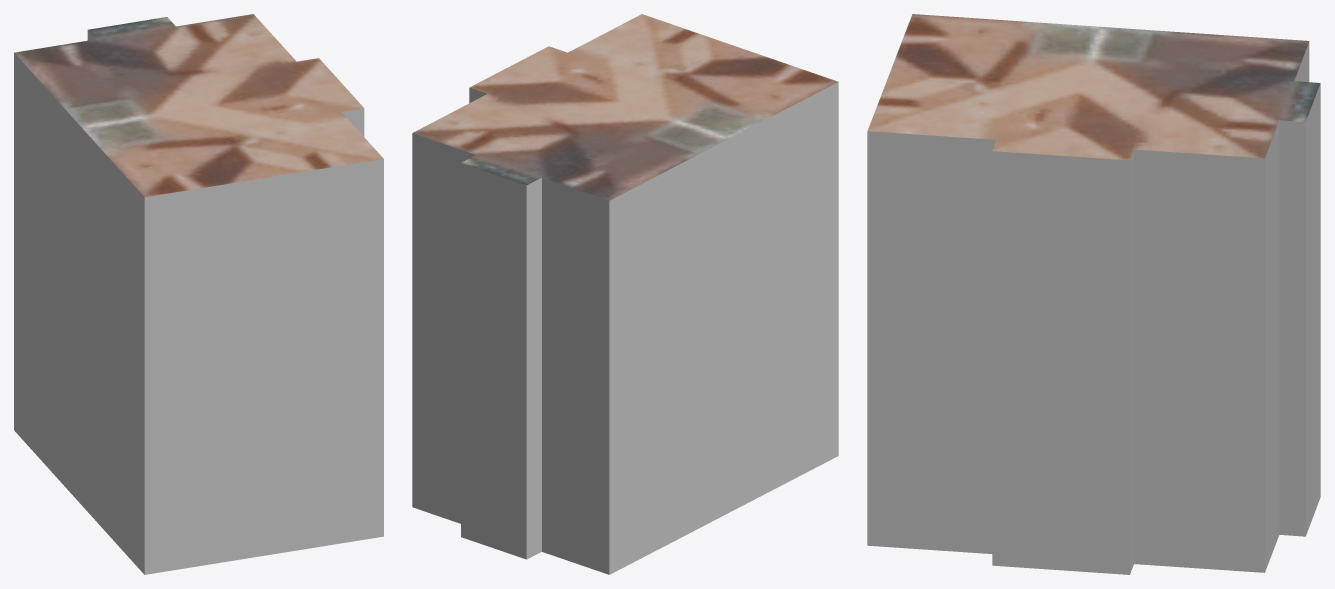
File: DEBW_0010007Txc1.gltf
The picture shows the model from 3 angles, left to right: view 1: azimuth 30°, elevation 25°; view 2: azimuth 150°, elevation 25°; view 3: azimuth 270°, elevation 25°; orthographic projection. The views are drawn at different scales.
Parts seen in each view (by area): view 1: Z_UP; view 2: Z_UP; view 3: Z_UP.
Boxes of the visible parts, box(x1,y1,x2,y2) form: Z_UP: box(14, 14, 383, 574); Z_UP: box(412, 14, 838, 574); Z_UP: box(867, 14, 1320, 574).
Bounding box in the file's own units: 16.02 × 21.14 × 20.94.
2 materials, 1 textured.
